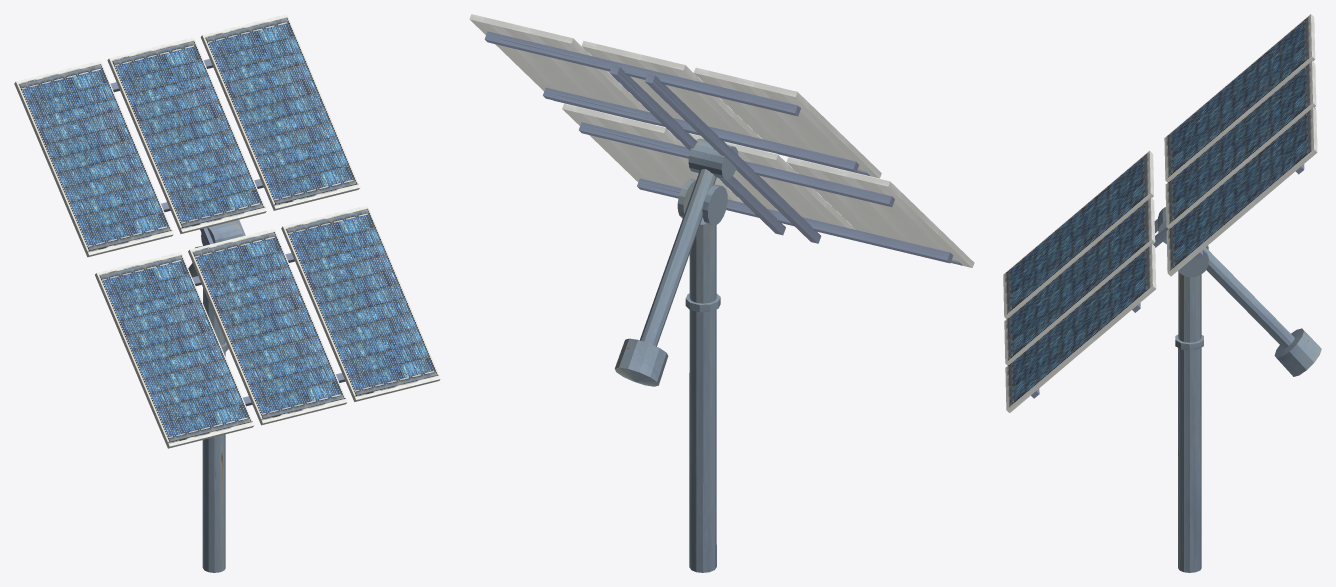
File: solarpanel.fbx
3 views of the same model, side by side, from view 1: azimuth 30°, elevation 25°; view 2: azimuth 150°, elevation 25°; view 3: azimuth 270°, elevation 25° (orthographic). The views are drawn at different scales.
Parts seen in each view (by area): view 1: Regroupd0, Regroup0, Regroupa0, Regroupc0; view 2: Regroupd0, Regroup0, Regroupc0, Regroupb0, Regroupa0; view 3: Regroupd0, Regroup0, Regroupa0.
Boxes of the visible parts, x1=… form: Regroupd0: x1=14, y1=14, x2=440, y2=448; Regroup0: x1=188, y1=263, x2=228, y2=572; Regroupa0: x1=192, y1=220, x2=242, y2=275; Regroupc0: x1=110, y1=59, x2=345, y2=406; Regroupd0: x1=469, y1=14, x2=974, y2=267; Regroup0: x1=614, y1=169, x2=720, y2=572; Regroupc0: x1=484, y1=31, x2=953, y2=263; Regroupb0: x1=609, y1=65, x2=821, y2=243; Regroupa0: x1=677, y1=138, x2=738, y2=225; Regroupd0: x1=1003, y1=14, x2=1317, y2=412; Regroup0: x1=1175, y1=247, x2=1321, y2=572; Regroupa0: x1=1158, y1=207, x2=1208, y2=277.
Size of the model in its own units: 3.05 by 5.05 by 3.
